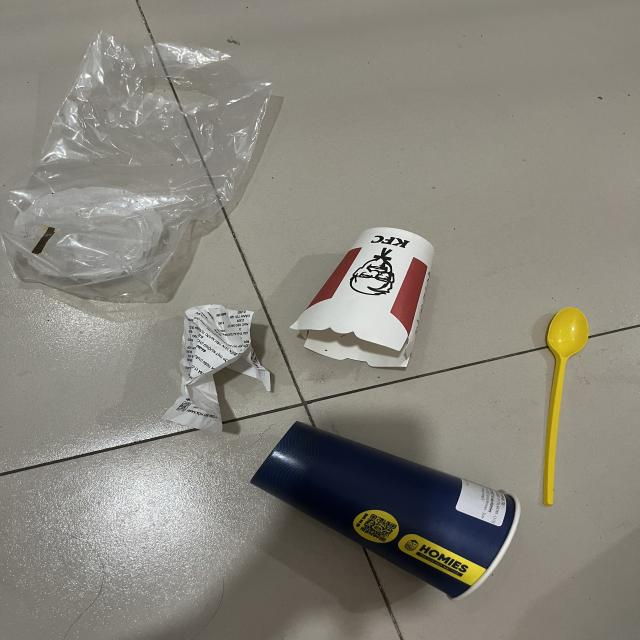bag: (5, 31, 275, 288)
cardboard box: (291, 227, 435, 369)
paper: (161, 304, 270, 430)
plastic glass: (254, 423, 519, 601)
plastic utensil: (545, 307, 590, 507)
